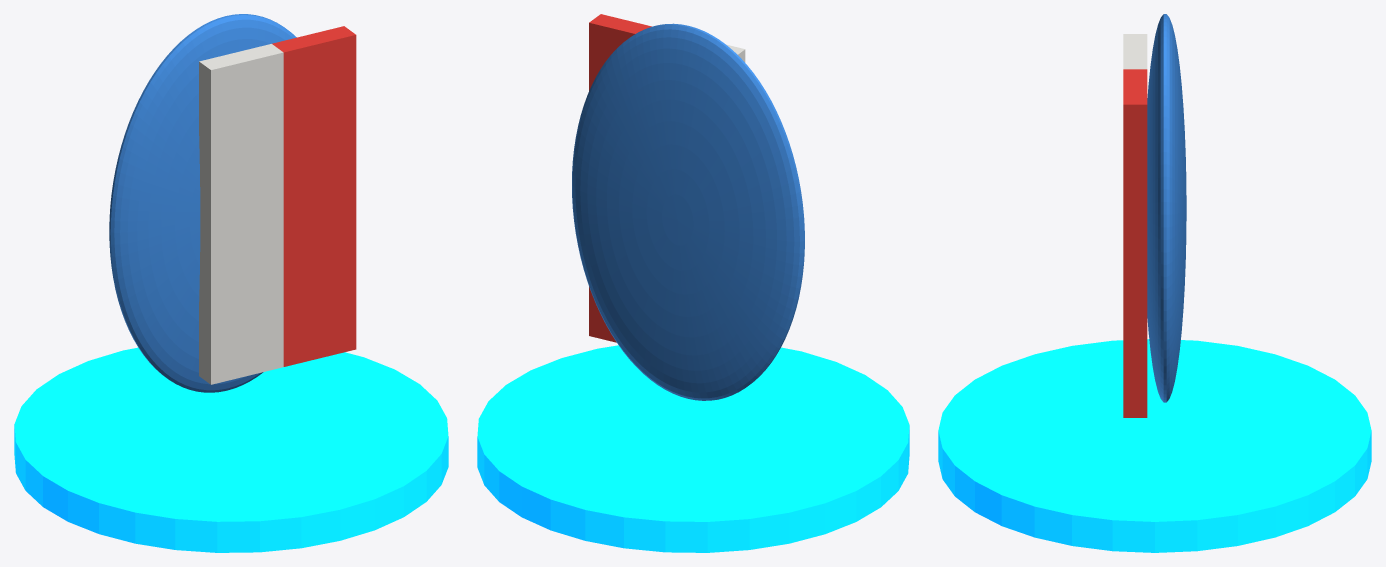
Rendered from french_france_map.glb.
3 views of the same model, side by side, from view 1: azimuth 30°, elevation 25°; view 2: azimuth 150°, elevation 25°; view 3: azimuth 270°, elevation 25° (orthographic).
Visible parts, largest first — view 1: 10_19_Popular_French_France_Map_ROOT_base, 10_19_Popular_French_France_Map_part_01, 10_19_Popular_French_France_Map_part_02, 10_19_Popular_French_France_Map_part_03; view 2: 10_19_Popular_French_France_Map_ROOT_base, 10_19_Popular_French_France_Map_part_01, 10_19_Popular_French_France_Map_part_03; view 3: 10_19_Popular_French_France_Map_ROOT_base, 10_19_Popular_French_France_Map_part_01, 10_19_Popular_French_France_Map_part_03, 10_19_Popular_French_France_Map_part_02.
Part boxes in pixels (left/top/right/bottom): 10_19_Popular_French_France_Map_ROOT_base: left=14, top=347, right=448, bottom=552; 10_19_Popular_French_France_Map_part_01: left=109, top=14, right=296, bottom=392; 10_19_Popular_French_France_Map_part_02: left=199, top=44, right=283, bottom=384; 10_19_Popular_French_France_Map_part_03: left=272, top=26, right=356, bottom=366; 10_19_Popular_French_France_Map_ROOT_base: left=477, top=345, right=909, bottom=552; 10_19_Popular_French_France_Map_part_01: left=572, top=23, right=804, bottom=400; 10_19_Popular_French_France_Map_part_03: left=589, top=14, right=651, bottom=342; 10_19_Popular_French_France_Map_ROOT_base: left=938, top=339, right=1371, bottom=552; 10_19_Popular_French_France_Map_part_01: left=1147, top=14, right=1186, bottom=402; 10_19_Popular_French_France_Map_part_03: left=1123, top=69, right=1147, bottom=417; 10_19_Popular_French_France_Map_part_02: left=1123, top=34, right=1147, bottom=69.
Size of the model in its own units: 0.76 by 0.85 by 0.76.
